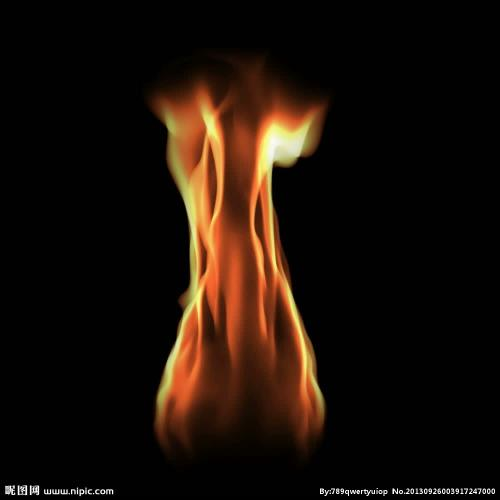fire: (169, 108, 319, 444)
